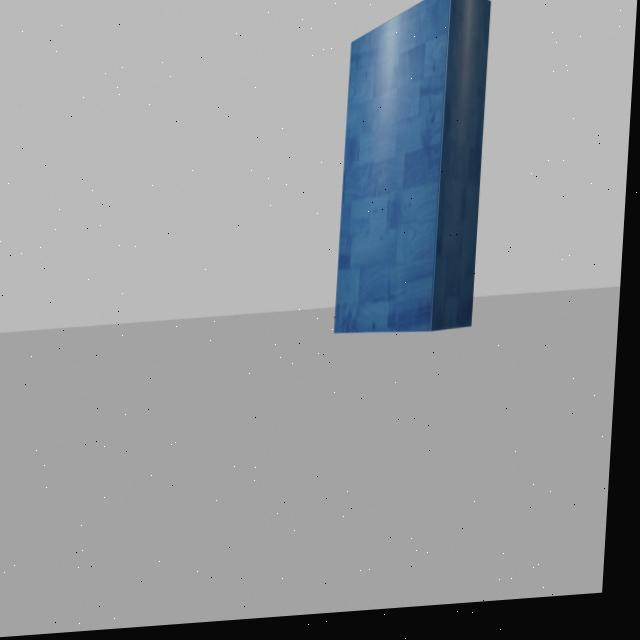shelf: (336, 0, 501, 358)
